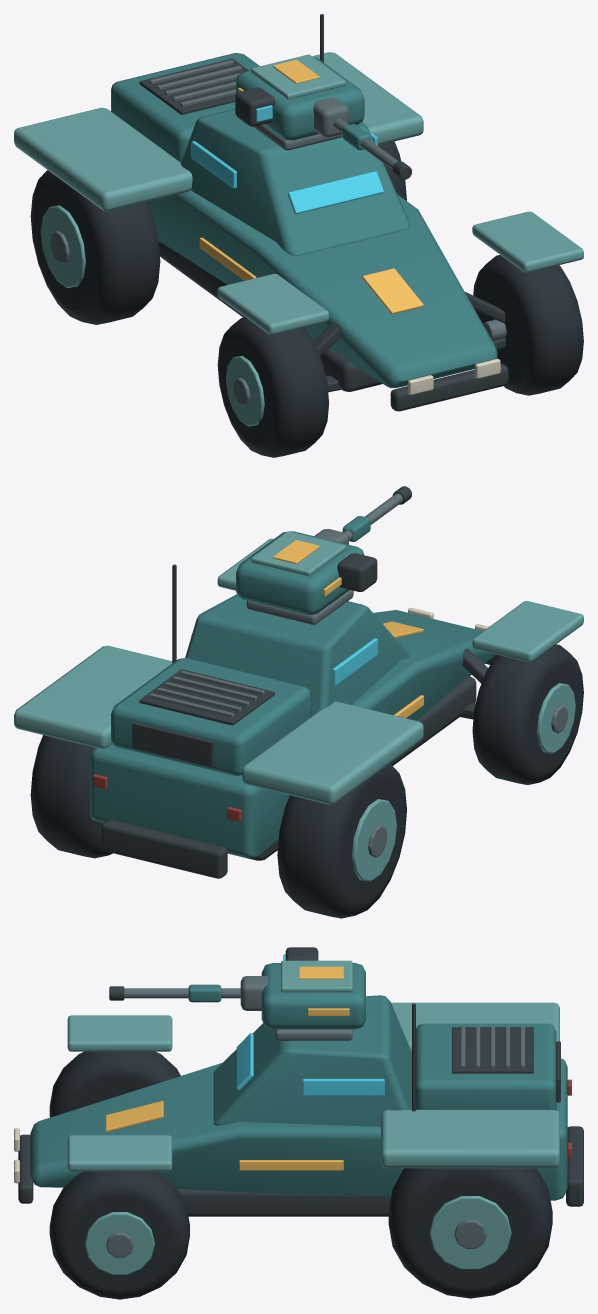
Rendered from meridian-combat-buggy.glb.
The picture shows the model from 3 angles, top to bottom: view 1: azimuth 30°, elevation 25°; view 2: azimuth 150°, elevation 25°; view 3: azimuth 270°, elevation 25°; orthographic projection. The views are drawn at different scales.
Visible parts, largest first — view 1: BuggyBodyMesh, WheelRearLeftMesh, WheelFrontLeftMesh, WheelFrontRightMesh, TurretMesh, BarrelMesh; view 2: BuggyBodyMesh, WheelRearLeftMesh, WheelFrontLeftMesh, TurretMesh, WheelRearRightMesh, BarrelMesh; view 3: BuggyBodyMesh, WheelRearRightMesh, WheelFrontRightMesh, TurretMesh, WheelFrontLeftMesh, BarrelMesh.
Boxes of the visible parts, x1,y1,x2,y2 form: BuggyBodyMesh: (14, 14, 583, 411); WheelRearLeftMesh: (30, 170, 160, 324); WheelFrontLeftMesh: (217, 317, 328, 457); WheelFrontRightMesh: (473, 255, 583, 395); TurretMesh: (235, 54, 364, 140); BarrelMesh: (313, 97, 411, 179); BuggyBodyMesh: (14, 538, 583, 878); WheelRearLeftMesh: (277, 763, 406, 918); WheelFrontLeftMesh: (472, 644, 583, 784); TurretMesh: (236, 531, 377, 614); WheelRearRightMesh: (30, 735, 112, 858); BarrelMesh: (314, 486, 411, 544); BuggyBodyMesh: (14, 995, 583, 1216); WheelRearRightMesh: (388, 1168, 552, 1298); WheelFrontRightMesh: (49, 1171, 189, 1299); TurretMesh: (261, 947, 365, 1029); WheelFrontLeftMesh: (49, 1051, 180, 1117); BarrelMesh: (109, 976, 267, 1010).
Bounding box in the file's own units: 2.4 × 1.96 × 3.82.
